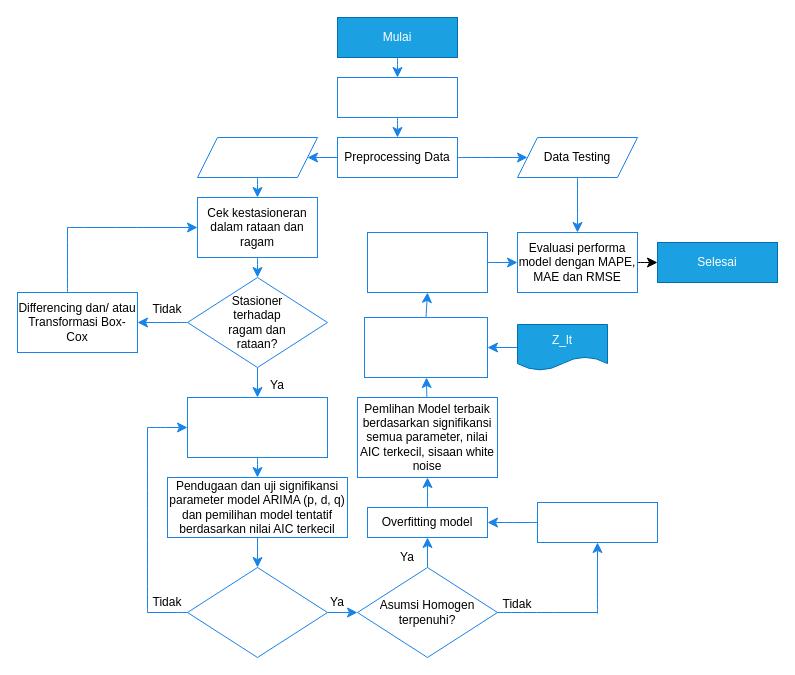
The diagram is 795 pixels wide and 675 high, and some of its shapes have lost their labels. The box of each missing label's shape, as (x1, y1, x2, y2) in pixels:
Asumsi white noise terpenuhi?: (186, 566, 328, 658)
Data Training: (196, 136, 318, 178)
Eksplorasi dan Visualisasi Data: (336, 76, 458, 118)
Identifikasi model ARIMA (p, d, q) berdasarkan ACF dan PACF: (186, 396, 328, 458)
Menambahkan variabel eksogen Meterologi dan hasil STCCF: (364, 316, 488, 378)
Pemodelan ARCH/GARCH: (536, 502, 658, 542)
Prediksi dan transformasi jika diperlukan: (366, 232, 488, 292)
